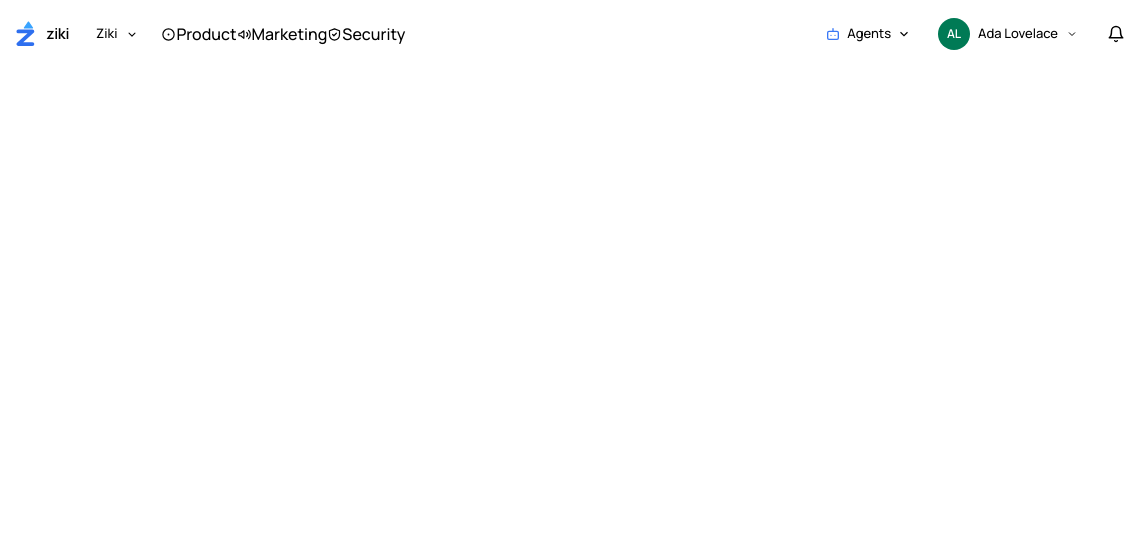
Test: account menu role switch › lists Escalations in the account menu, with the pending count (#763)
Expected: the link "escalation" is not shown
Click the button named "account menu". click: (1012, 34)
box: [933,12,1090,56]
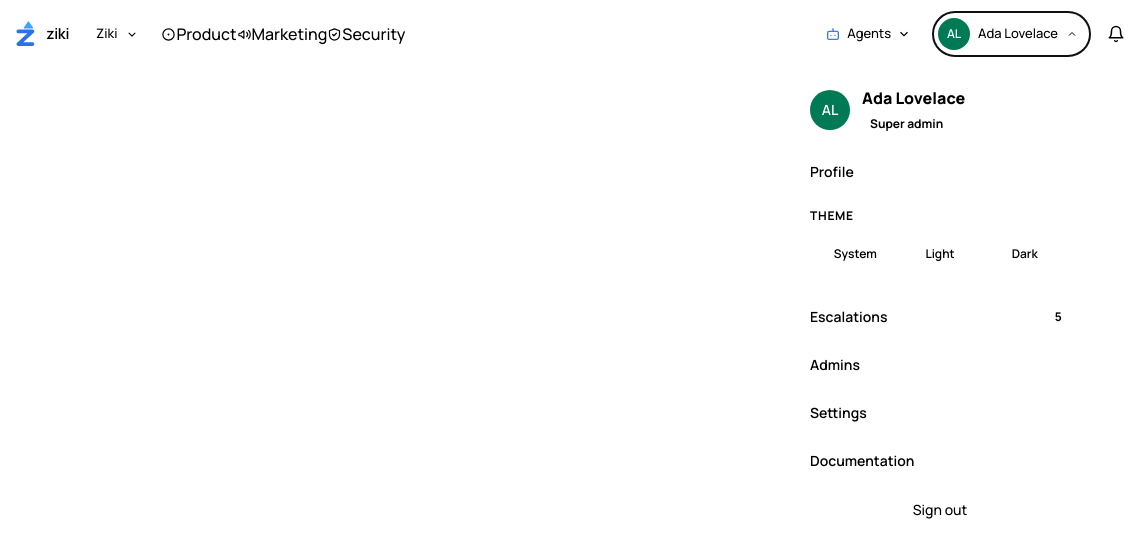
Now the text named "5 pending" is shown, box [1054,308,1062,325]
